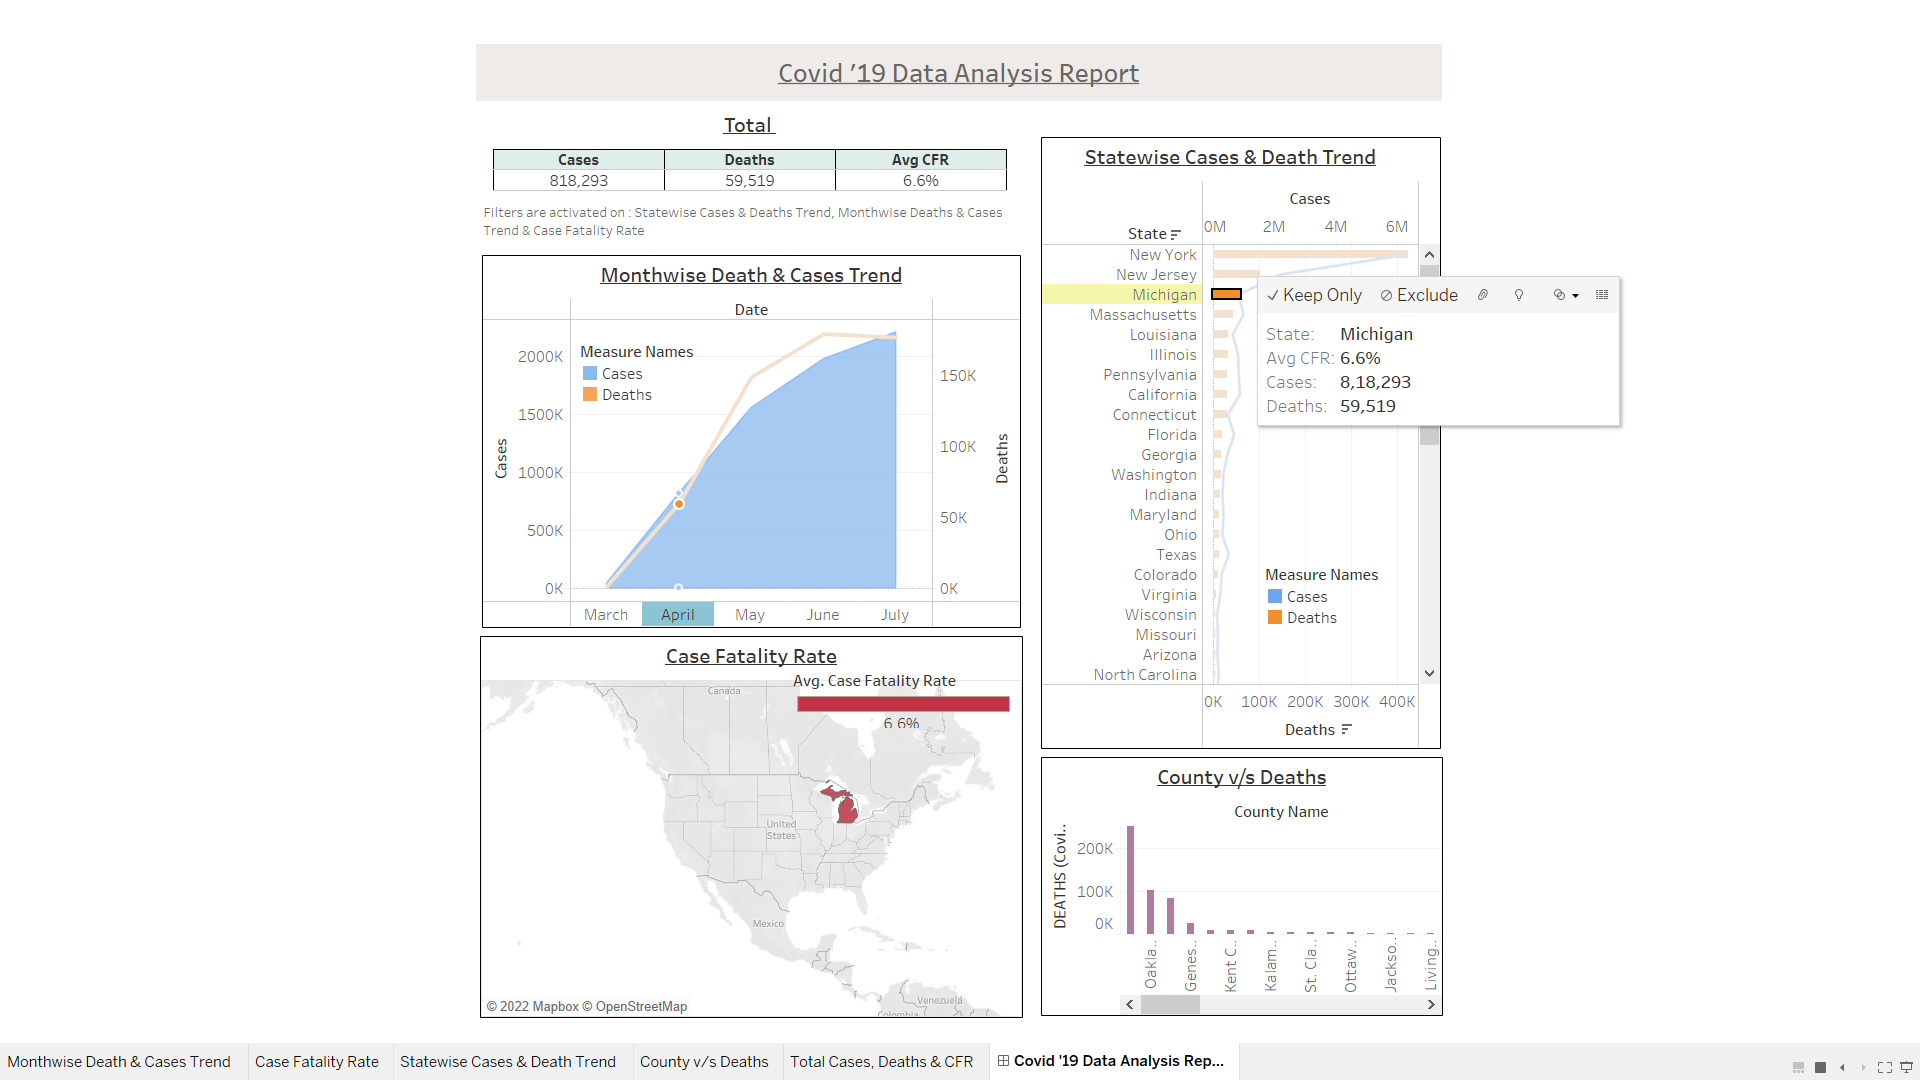

The page's visual inventory and layout, read from the dashboard file:
{"tool":"tableau","page":{"name":"Covid '19 Data Analysis Report","canvas":[1000,1000],"ordinal":0},"visuals":[{"type":"text","box":[16,23,966,57]},{"type":"worksheet","title":"Total Cases, Deaths & CFR","mark":"Automatic","box":[33,85,558,86]},{"type":"worksheet","title":"Statewise Cases & Death Trend","mark":"Automatic","rows":["STATE"],"cols":["DEATHS","CASES"],"box":[581,116,400,612]},{"type":"text","box":[20,164,540,72]},{"type":"worksheet","title":"Monthwise Death & Cases Trend","mark":"Automatic","rows":["CASES","DEATHS"],"cols":["DATE"],"box":[22,234,539,373]},{"type":"legend","title":"Monthwise Death & Cases Trend","param":"[federated.0ui7ffg10hddcb1d2uvlm0c506nb].[:Measure Names]","box":[120,320,150,67]},{"type":"legend","title":"Statewise Cases & Death Trend","param":"[federated.0ui7ffg10hddcb1d2uvlm0c506nb].[:Measure Names]","box":[805,543,124,72]},{"type":"worksheet","title":"Case Fatality Rate","mark":"Automatic","box":[20,615,543,382]},{"type":"legend","title":"Case Fatality Rate","param":"[federated.0ui7ffg10hddcb1d2uvlm0c506nb].[avg:Calculation_444730521132519424:qk]","box":[333,649,221,58]},{"type":"worksheet","title":"County v/s Deaths","mark":"Automatic","rows":["DEATHS (Covid_County_Level_Data.csv)"],"cols":["COUNTY_NAME"],"box":[581,736,402,259]}]}

Visuals, with their boxes on the page's 1000x1000 design canvas (x1, y1, x2, y2). These are canvas units, not pixel positions in the 1920x1080 screenshot, which may show the page scaled, cropped or inside an application window:
text: detection(16, 23, 982, 80)
"Total Cases, Deaths & CFR" worksheet: detection(33, 85, 591, 171)
"Statewise Cases & Death Trend" worksheet: detection(581, 116, 981, 728)
text: detection(20, 164, 560, 236)
"Monthwise Death & Cases Trend" worksheet: detection(22, 234, 561, 607)
"Monthwise Death & Cases Trend" legend: detection(120, 320, 270, 387)
"Statewise Cases & Death Trend" legend: detection(805, 543, 929, 615)
"Case Fatality Rate" worksheet: detection(20, 615, 563, 997)
"Case Fatality Rate" legend: detection(333, 649, 554, 707)
"County v/s Deaths" worksheet: detection(581, 736, 983, 995)
